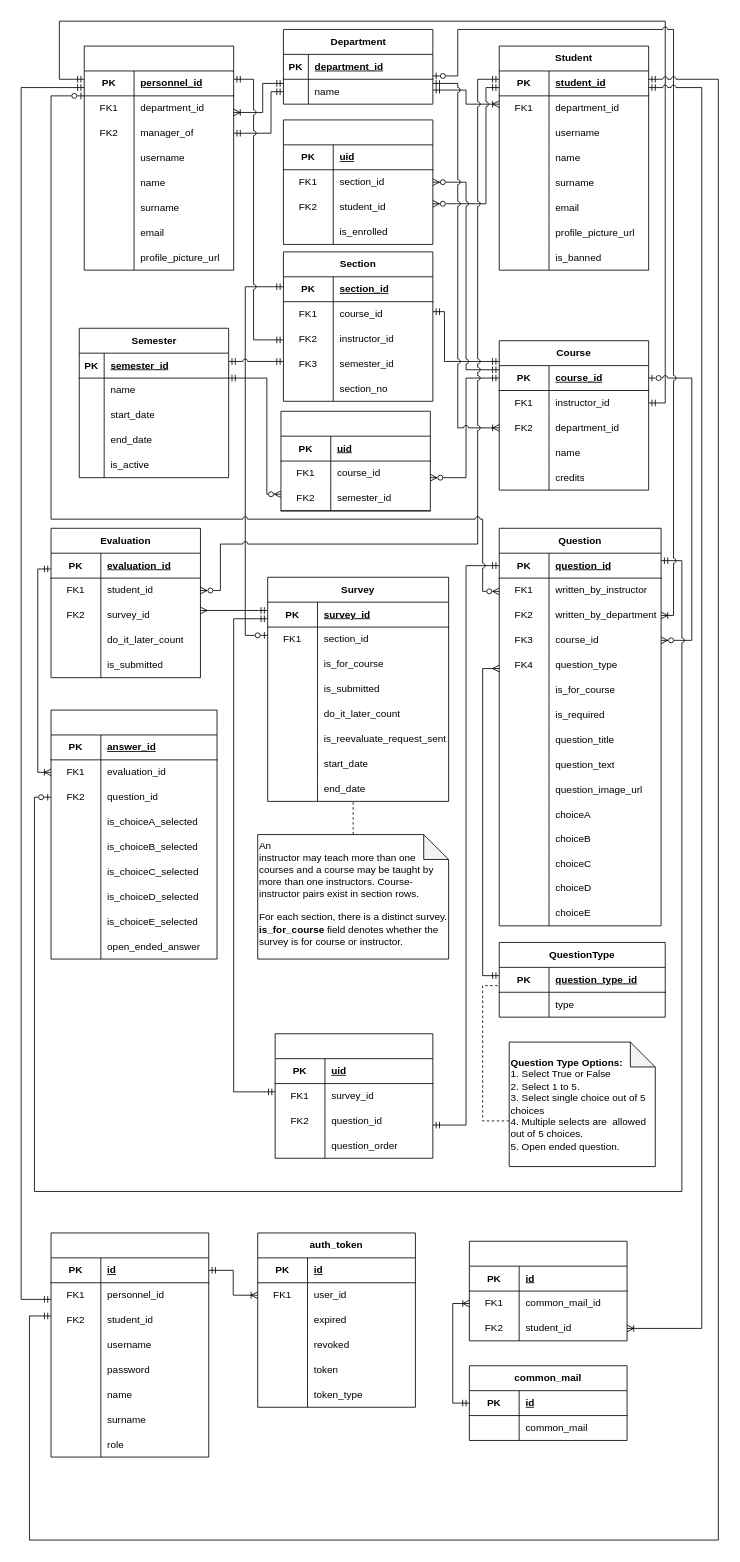
The diagram is 740 pixels wide and 1562 high, and some of its shapes have lost their labels. The shapes that lost their labels are listed below. From the top down, each one's box as (x1, y1, x2, y2) in pixels, then its label:
(83, 45, 234, 270): AcademicPersonnel
(283, 119, 433, 244): SectionEnrolment
(280, 410, 430, 511): CourseSemester
(50, 709, 217, 959): EvaluationAnswer
(274, 1033, 433, 1158): SurveyQuestion
(469, 1240, 627, 1341): mail_merge
(50, 1232, 209, 1457): auth_user
